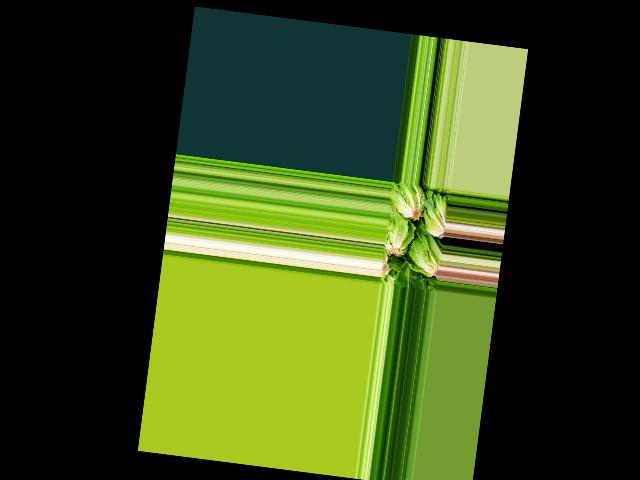lettuce: (393, 262, 420, 290)
